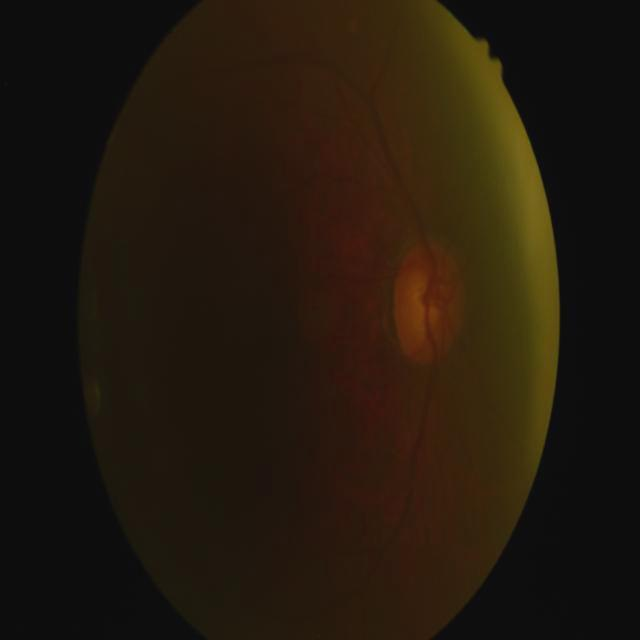cup: (408, 262, 449, 347)
disk: (393, 242, 467, 366)
